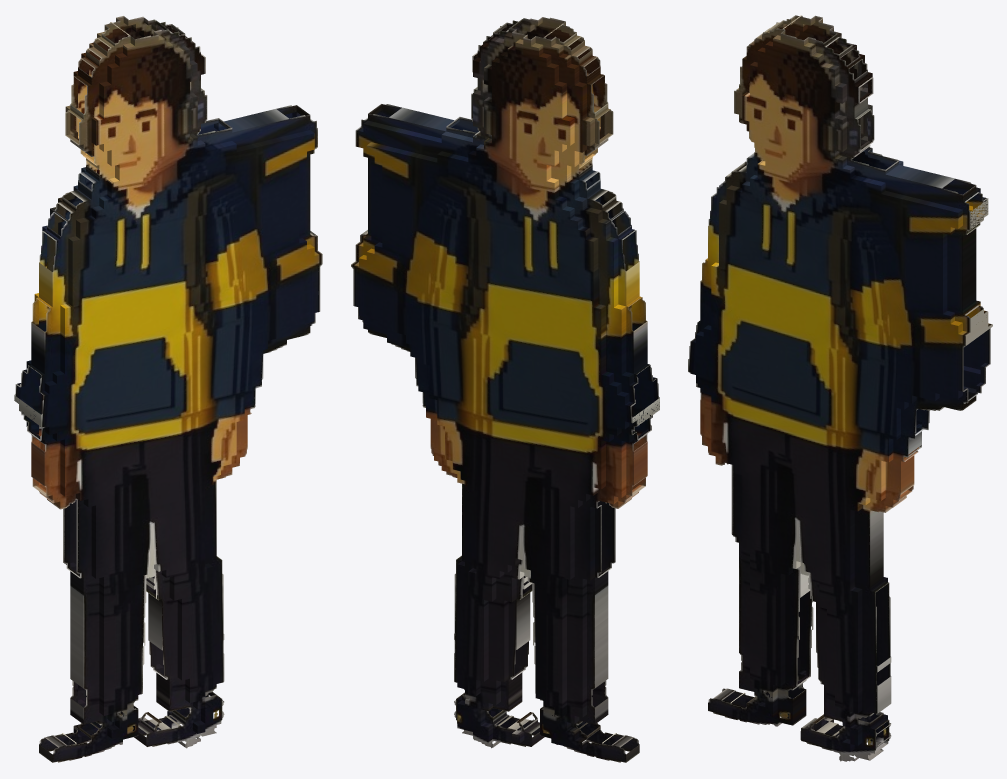
File: char_3.glb
3 renders of one model, left to right at view 1: azimuth 30°, elevation 25°; view 2: azimuth 150°, elevation 25°; view 3: azimuth 330°, elevation 25°, orthographic.
Parts seen in each view (by area): view 1: char_3; view 2: char_3; view 3: char_3.
Boxes of the visible parts, left/top/right/bottom form: char_3: left=14, top=16, right=322, bottom=762; char_3: left=351, top=17, right=659, bottom=762; char_3: left=688, top=15, right=992, bottom=761.
Size of the model in its own units: 36 by 89 by 6.
1 material, 1 textured.
